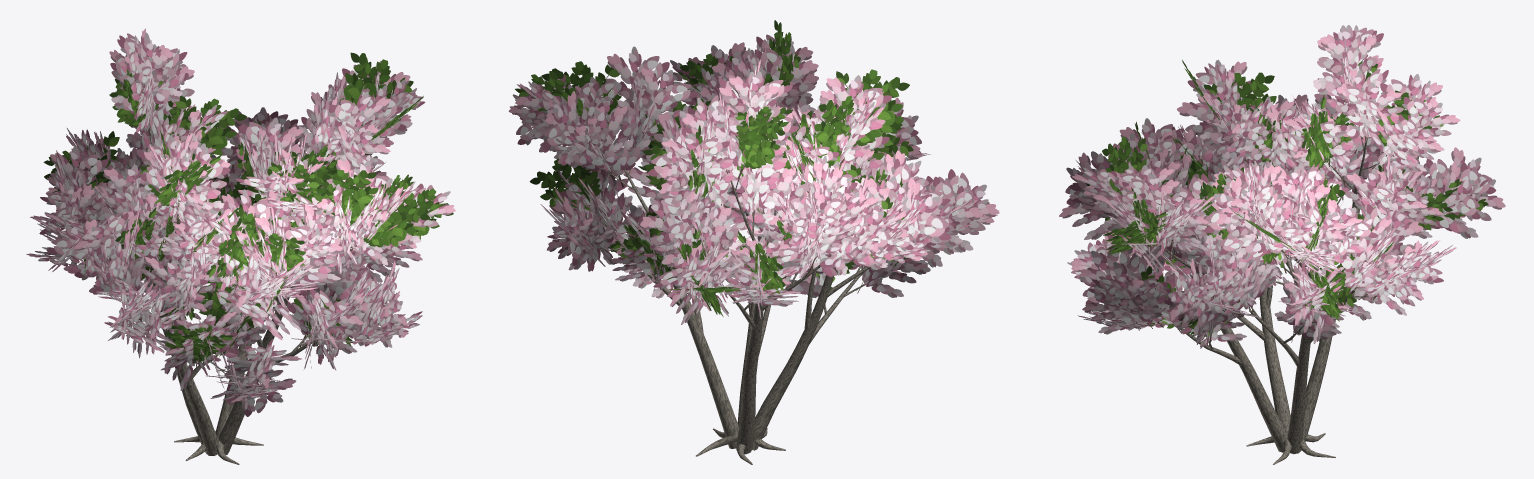
Rendered from magnolia-tree.glb.
The picture shows the model from 3 angles, left to right: view 1: azimuth 30°, elevation 25°; view 2: azimuth 150°, elevation 25°; view 3: azimuth 270°, elevation 25°; orthographic projection. The views are drawn at different scales.
Visible parts, largest first — view 1: Leaves, Trunk; view 2: Leaves, Trunk; view 3: Leaves, Trunk.
Boxes of the visible parts, x1,y1,x2,y2 form: Leaves: [26, 28, 455, 416]; Trunk: [140, 128, 351, 464]; Leaves: [508, 20, 999, 324]; Trunk: [600, 162, 870, 464]; Leaves: [1059, 25, 1505, 348]; Trunk: [1143, 136, 1379, 464].
Bounding box in the file's own units: 6.52 × 5.96 × 6.34.
3 materials, 3 textured.
